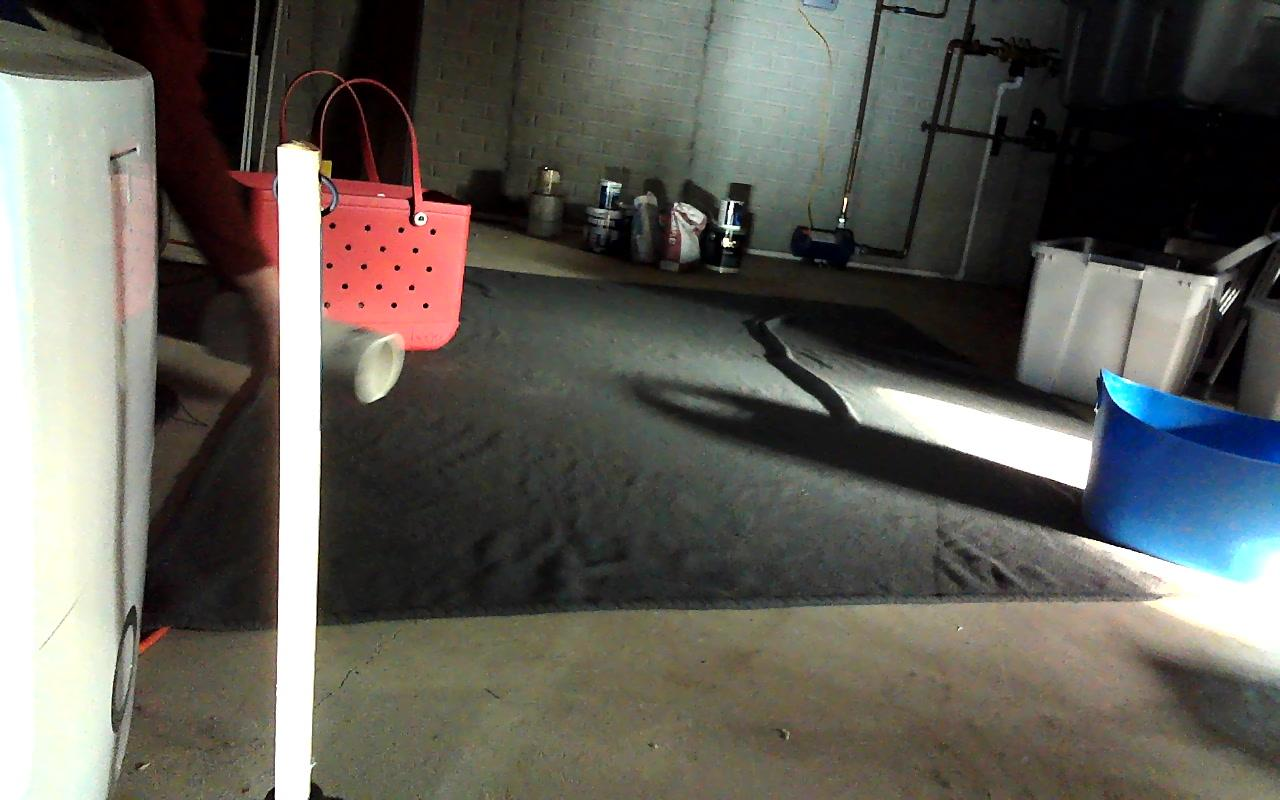coral: (320, 320, 403, 403)
